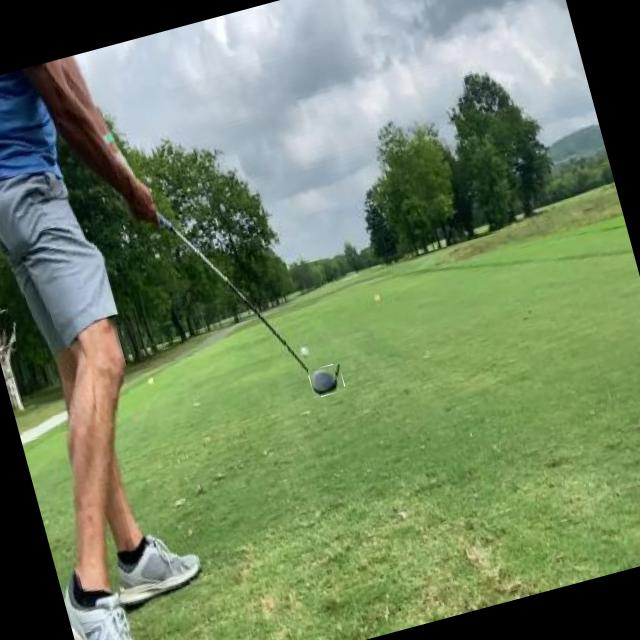club head: (308, 363, 346, 398)
